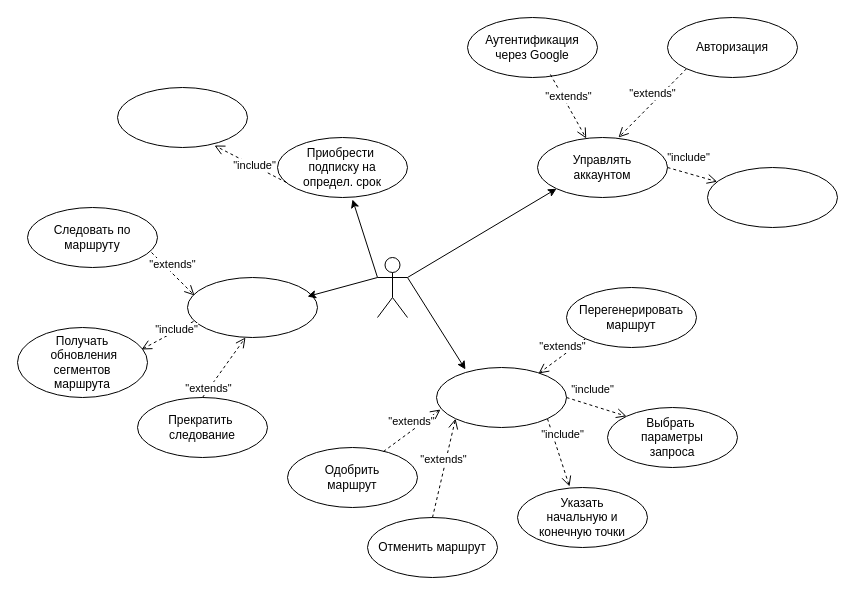
Image size: 855x595. Some labels were removed from this diagram. Each missing label, with the centre of its shape:
"Выполнить платеж через внешний шлюз" belongs at point (182, 117).
"Выход из системы" belongs at point (772, 197).
"Использовать маршрут из запроса" belongs at point (252, 307).
"Пользователь" belongs at point (392, 287).
"Создать маршрутный запрос" belongs at point (501, 397).
